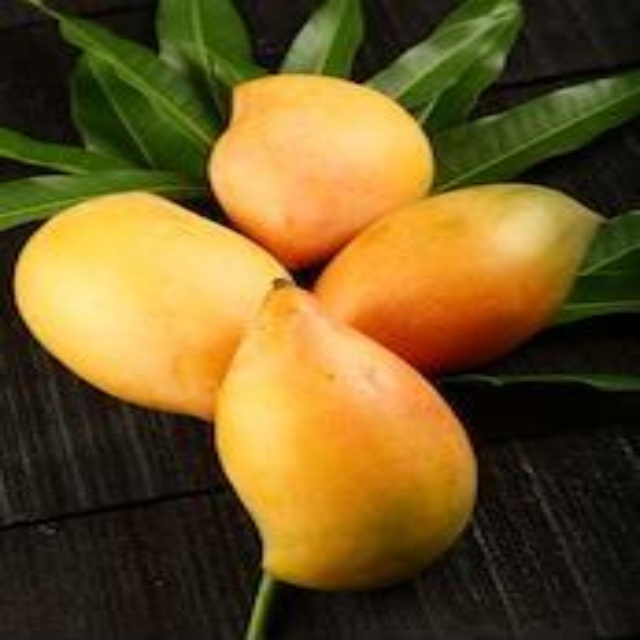mango: (218, 280, 486, 591), (16, 189, 296, 410), (321, 186, 601, 371), (210, 74, 438, 266)
